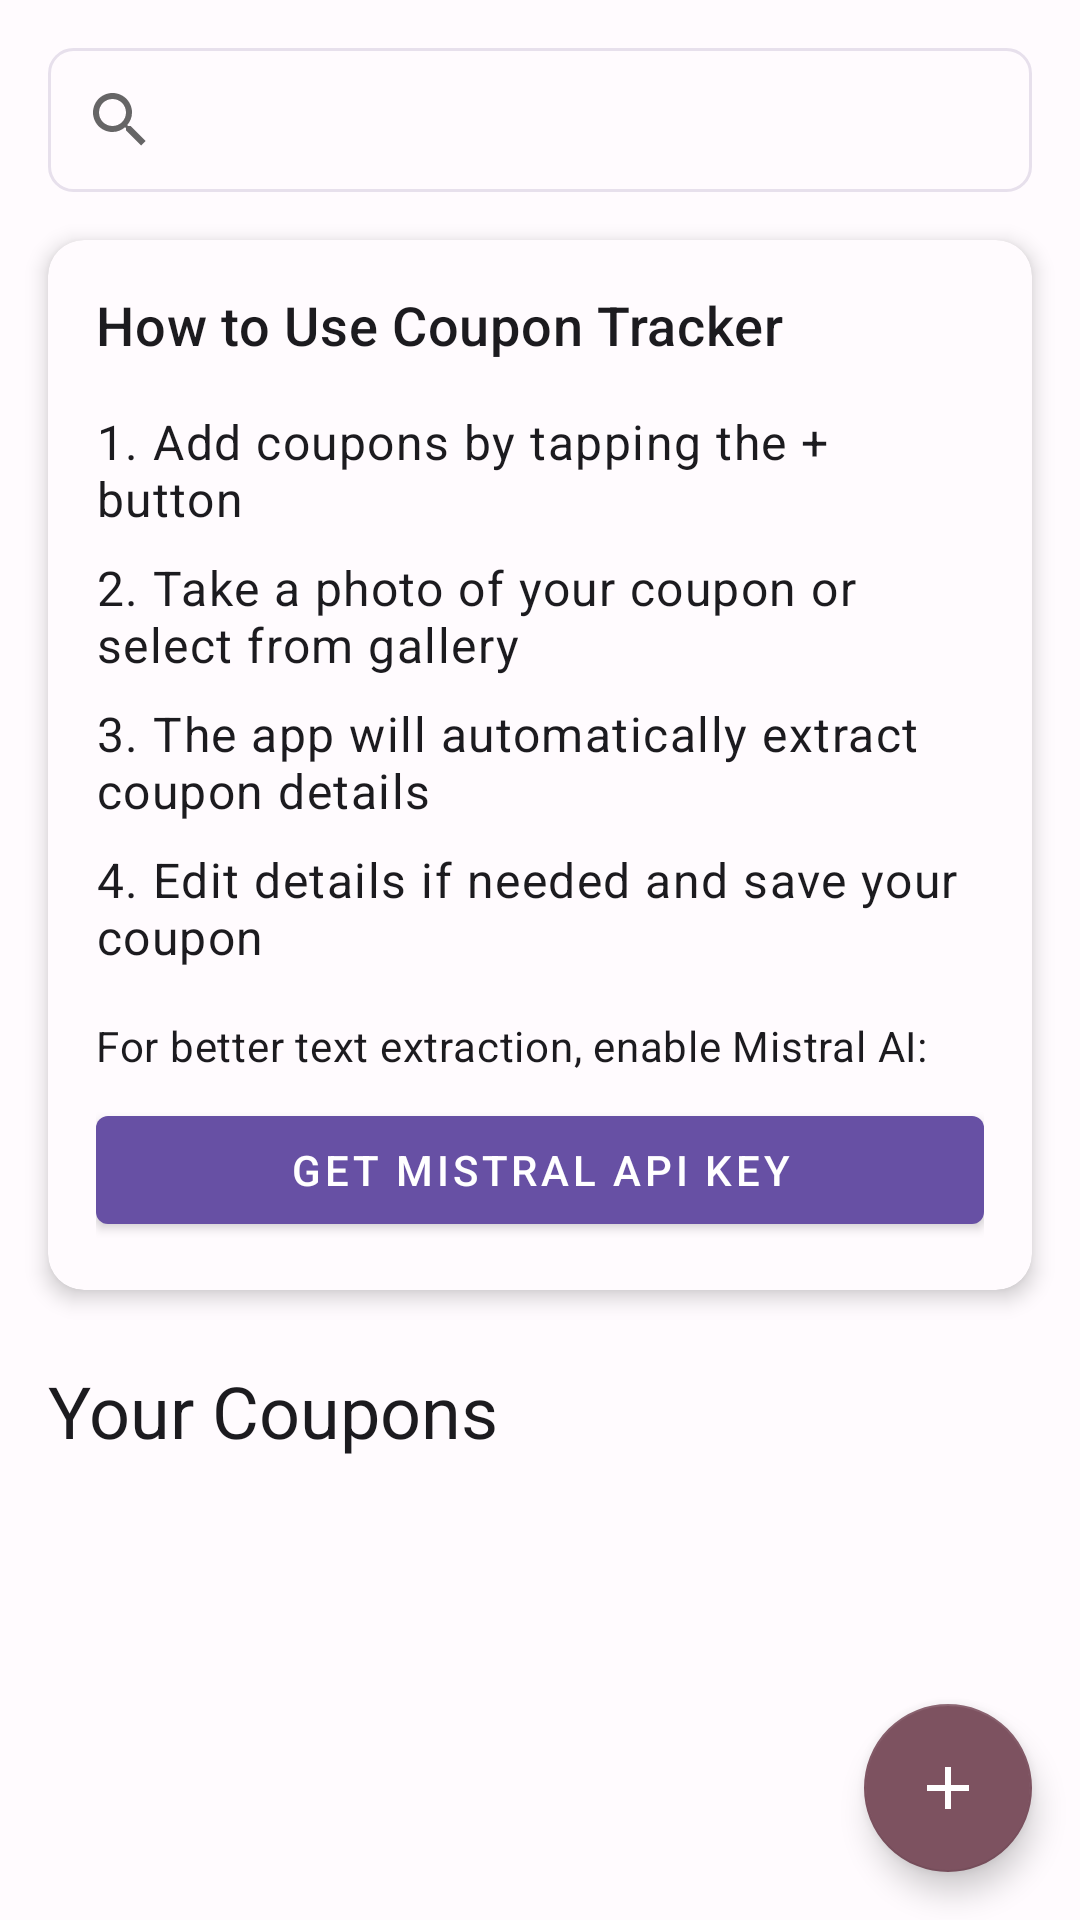

Icon click points for this 1080px x 1920px phone screenshot, format (x=x, y=y):
Add Coupon: (x=948, y=1788)
